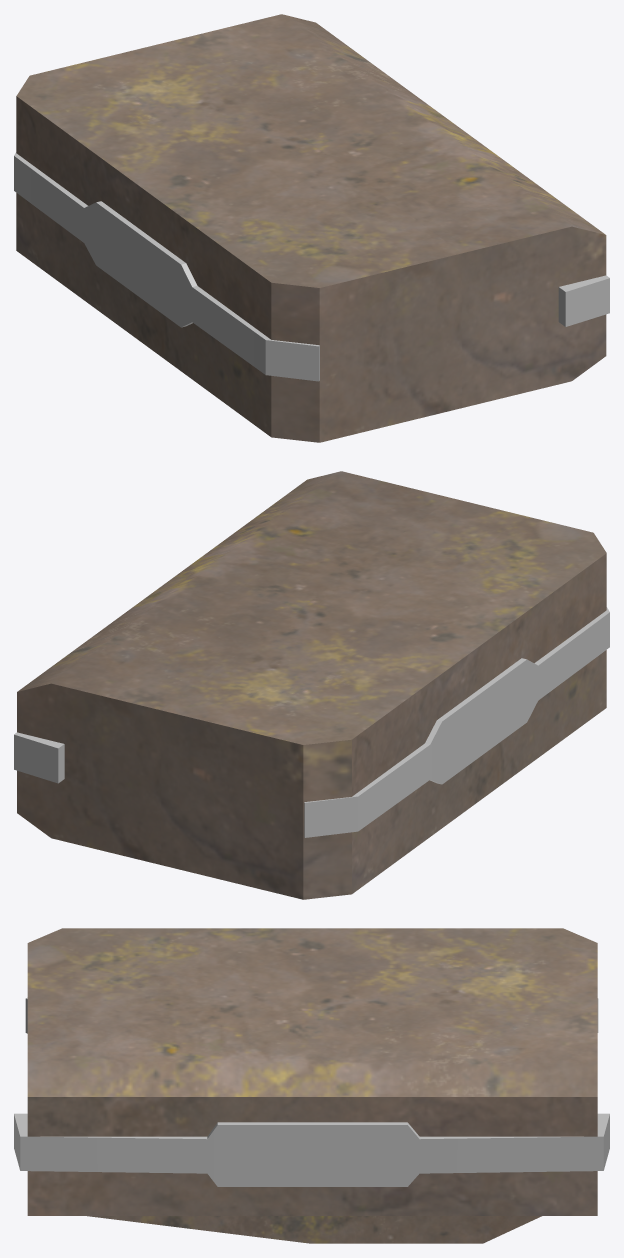
The model's file is ghiway_5a.fbx.
The picture shows the model from 3 angles, top to bottom: view 1: azimuth 30°, elevation 25°; view 2: azimuth 150°, elevation 25°; view 3: azimuth 270°, elevation 25°; orthographic projection.
Parts seen in each view (by area): view 1: ghiway_5a; view 2: ghiway_5a; view 3: ghiway_5a.
Boxes of the visible parts, bbox=[...] form: ghiway_5a: bbox=[14, 14, 609, 442]; ghiway_5a: bbox=[14, 471, 609, 899]; ghiway_5a: bbox=[14, 928, 609, 1243].
Bounding box in the file's own units: 921 × 520 × 1475.
